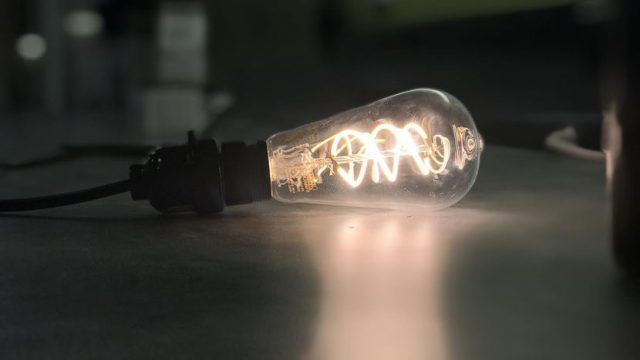Light_bulb: (116, 79, 494, 229)
